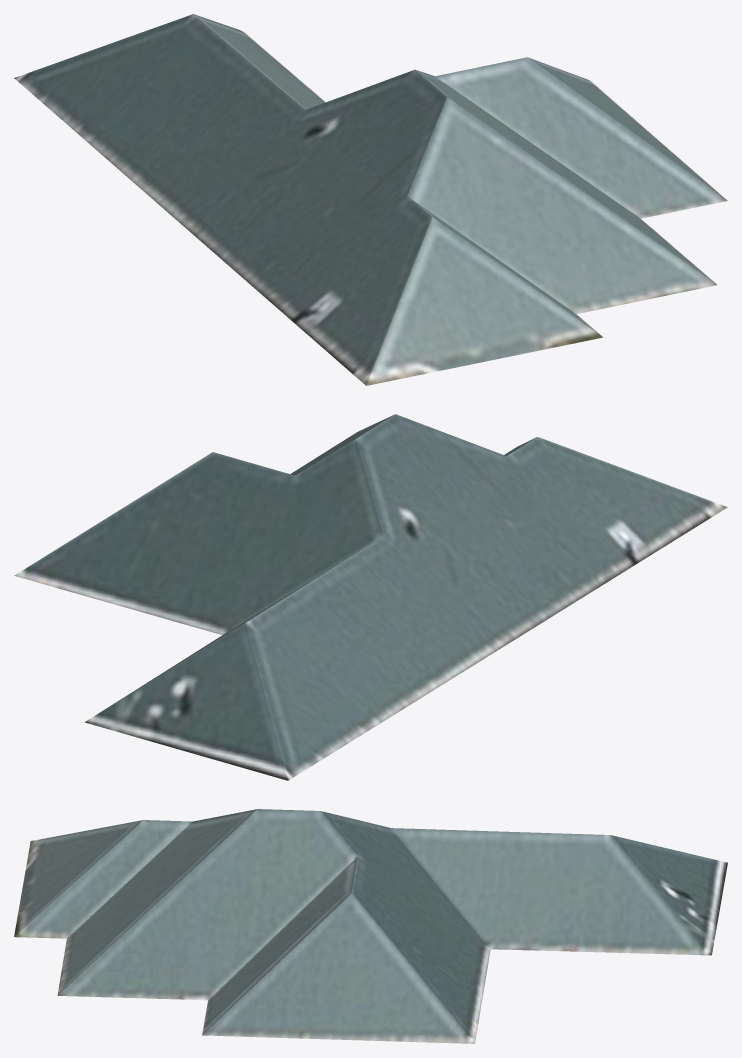
The model's file is CG10_500_041065_0032_roof.obj.
The picture shows the model from 3 angles, top to bottom: view 1: azimuth 30°, elevation 25°; view 2: azimuth 150°, elevation 25°; view 3: azimuth 270°, elevation 25°; orthographic projection. The views are drawn at different scales.
Parts seen in each view (by area): view 1: CG10_500_041065_0032_roof; view 2: CG10_500_041065_0032_roof; view 3: CG10_500_041065_0032_roof.
Boxes of the visible parts, x1=… form: CG10_500_041065_0032_roof: x1=14, y1=14, x2=727, y2=385; CG10_500_041065_0032_roof: x1=14, y1=414, x2=727, y2=780; CG10_500_041065_0032_roof: x1=14, y1=809, x2=727, y2=1043.
Bounding box in the file's own units: 250 × 70 × 373.
1 material, 1 textured.
